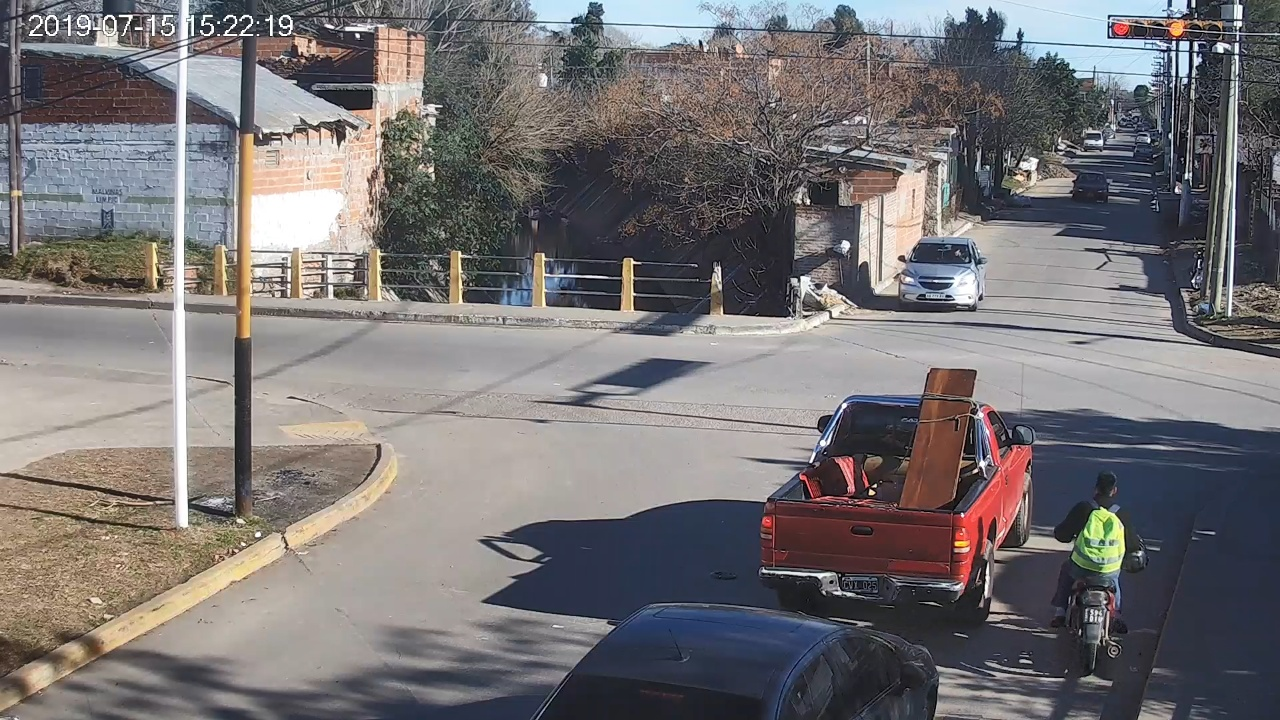car: (759, 395, 1036, 623), (527, 601, 939, 720)
front car: (899, 238, 988, 311)
motorcycle: (1053, 503, 1149, 676)
traffic light: (1111, 18, 1222, 40)
